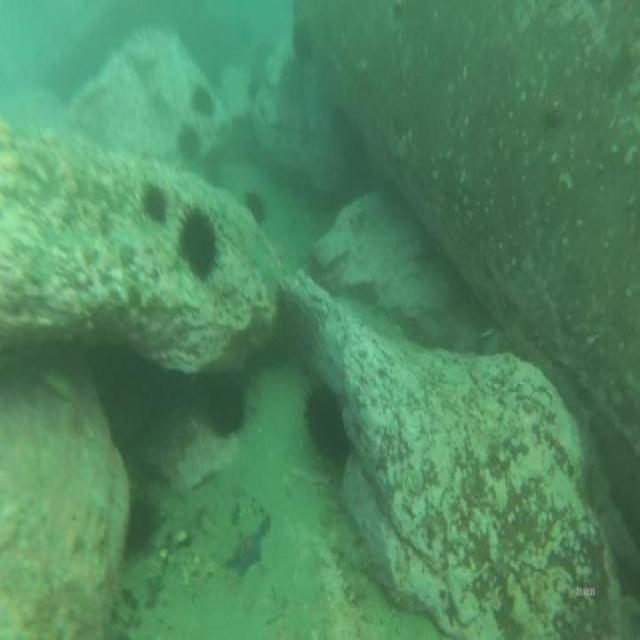echinus: (298, 371, 358, 471), (169, 194, 228, 290), (196, 362, 256, 441), (125, 490, 167, 559), (135, 177, 169, 234), (186, 77, 218, 126), (176, 119, 205, 164), (243, 185, 269, 229)
starfish: (224, 520, 267, 583)
